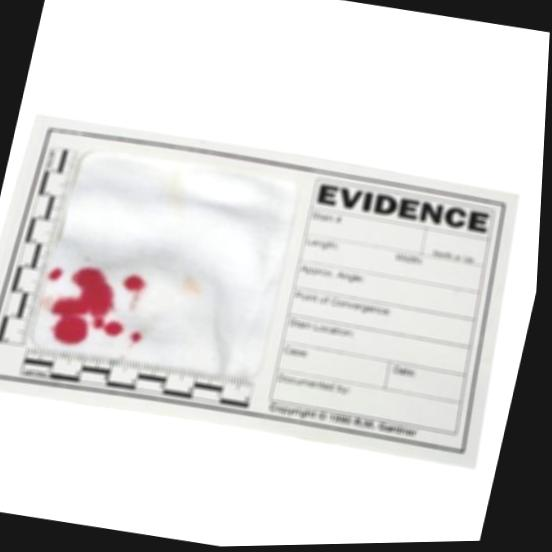Fire: (53, 268, 126, 345), (127, 275, 148, 291), (51, 268, 64, 280), (134, 333, 144, 342)
